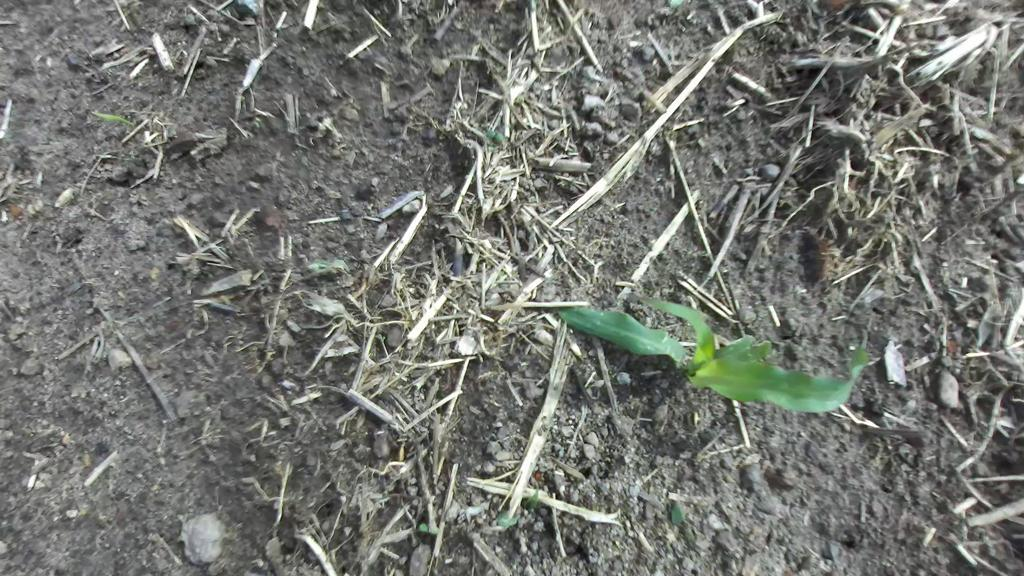BroWeed: (494, 507, 520, 532), (306, 258, 351, 272), (524, 479, 543, 512), (484, 125, 505, 146), (669, 504, 682, 524), (667, 0, 683, 9), (418, 522, 430, 533)
Maize: (547, 276, 871, 428)
NarWeed: (88, 110, 133, 126)
